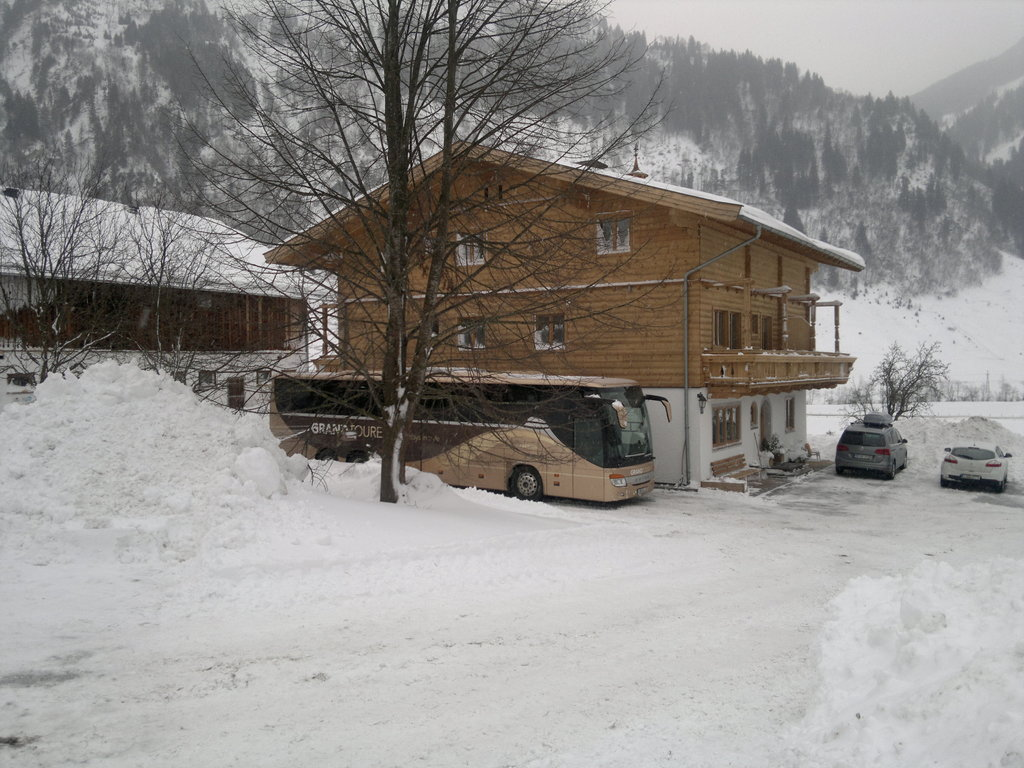Tree: (181, 0, 681, 504), (0, 135, 140, 388), (112, 176, 263, 383), (832, 337, 950, 424)
